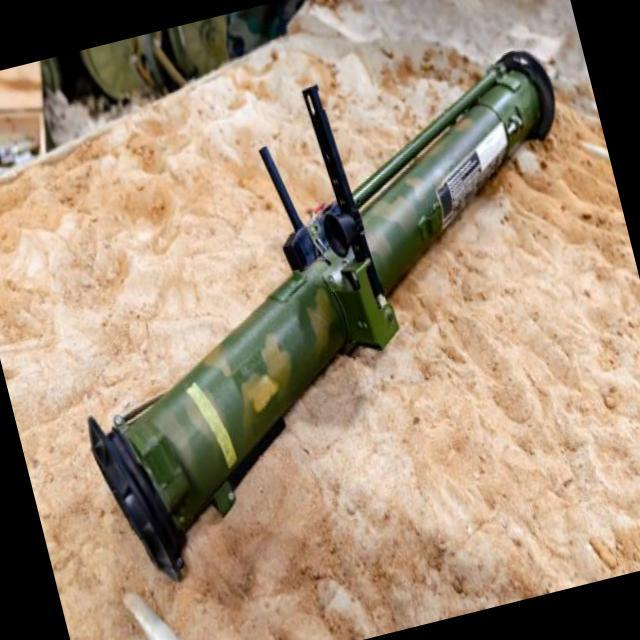rocket: (17, 33, 640, 599)
